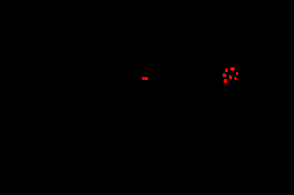Target: (230, 67, 235, 71), (222, 73, 227, 77), (142, 77, 148, 80), (223, 79, 227, 83), (225, 68, 228, 72), (229, 75, 232, 79), (236, 72, 239, 75), (234, 77, 237, 80)
